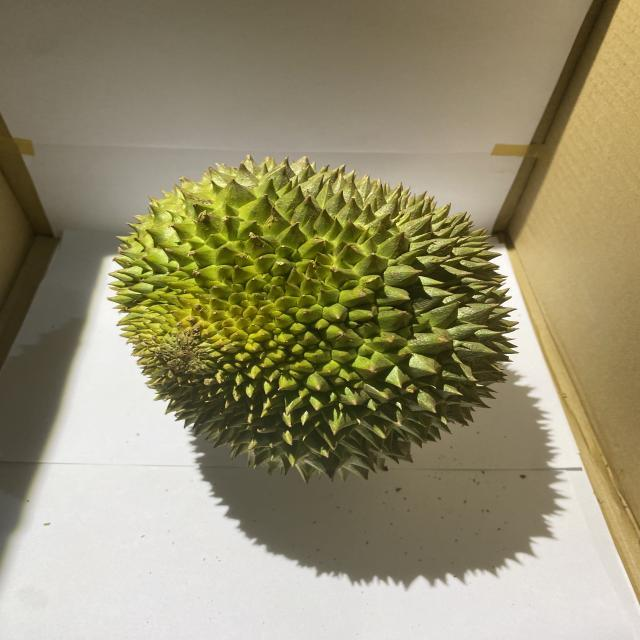immature: (110, 149, 518, 477)
